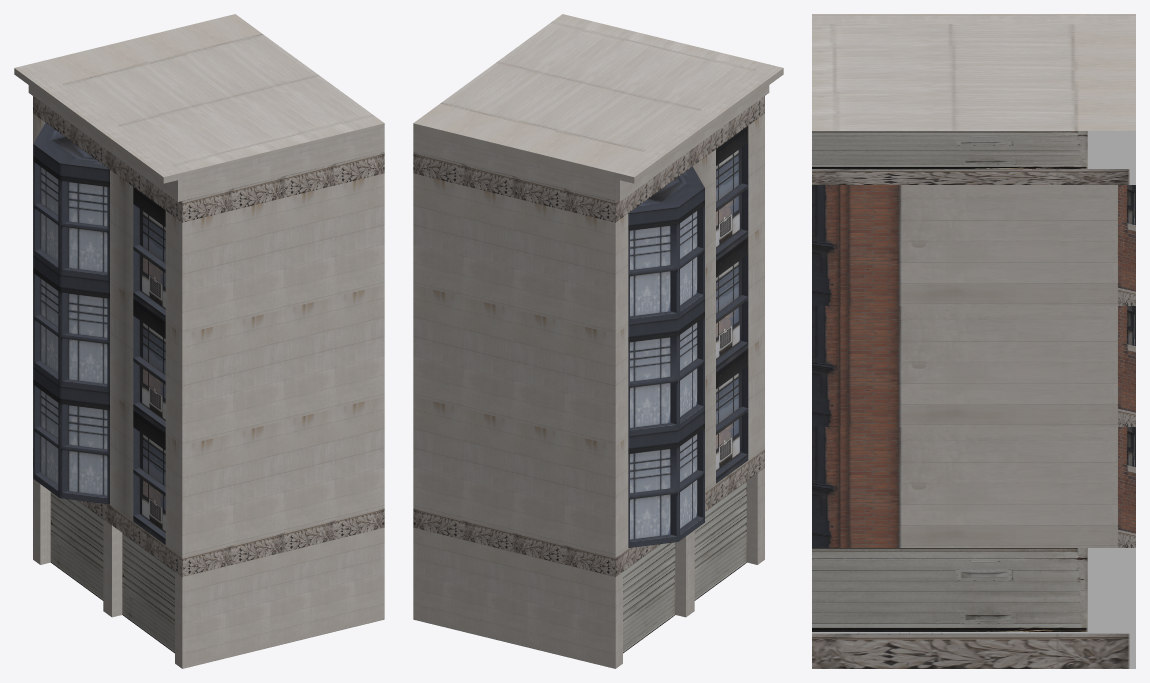
File: building03.fbx
3 renders of one model, left to right at view 1: azimuth 30°, elevation 25°; view 2: azimuth 150°, elevation 25°; view 3: azimuth 270°, elevation 25°, orthographic. The views are drawn at different scales.
Parts seen in each view (by area): view 1: building03; view 2: building03; view 3: building03.
Boxes of the visible parts, bbox=[...] form: building03: bbox=[14, 14, 384, 668]; building03: bbox=[413, 14, 783, 668]; building03: bbox=[812, 14, 1135, 668].
Bounding box in the file's own units: 90.57 × 184 × 100.
